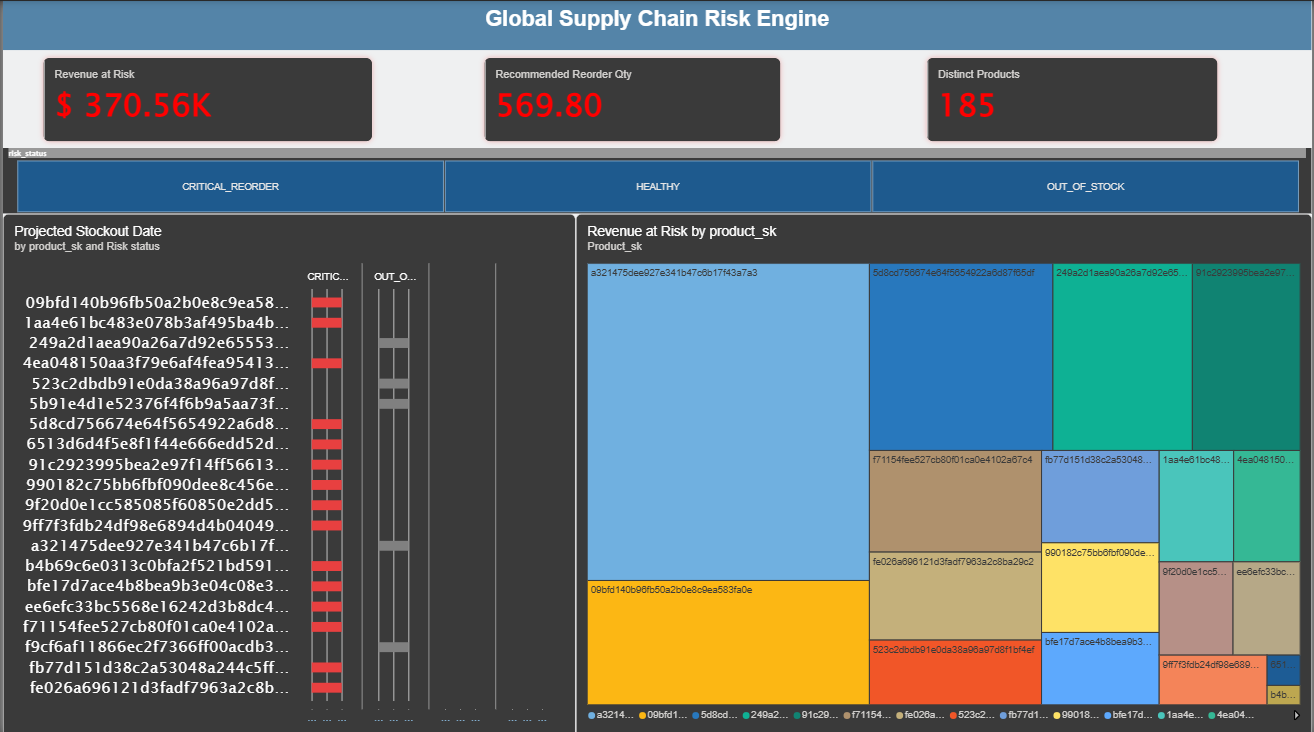

The page's visual inventory and layout, read from the dashboard file:
{"tool":"powerbi","page":{"name":"Global Supply Chain Risk Engine","canvas":[1920,1080],"ordinal":0},"visuals":[{"type":"textbox","box":[0,0,1920,72],"z":0},{"type":"cardVisual","fields":{"Data":["_Key_Measures.Revenue at Risk"]},"box":[48,72,504,144],"z":1000},{"type":"cardVisual","fields":{"Data":["_Key_Measures.Recommended Reorder Qty"]},"box":[696,72,456,144],"z":2000},{"type":"cardVisual","fields":{"Data":["replenishment_risk.Distinct Products"]},"box":[1344,72,448,144],"z":3000},{"type":"slicer","fields":{"Values":["replenishment_risk.risk_status"]},"box":[0,216,1920,96],"z":4000},{"type":"treemap","fields":{"Group":["replenishment_risk.product_sk"],"Values":["_Key_Measures.Revenue at Risk"]},"box":[840,312,1080,768],"z":5000},{"type":"hundredPercentStackedBarChart","fields":{"Rows":["replenishment_risk.risk_status"],"Y":["CountNonNull(replenishment_risk.projected_stockout_date)"],"Category":["dim_product.product_sk"]},"box":[0,312,840,768],"z":6000}]}

Visuals, with their boxes in screenshot pixels (x1, y1, x2, y2), scaled from the page's 1920x1080 canvas onto the 1314x732 screenshot:
textbox: <region>0, 0, 1313, 49</region>
cardVisual - _Key_Measures.Revenue at Risk: <region>33, 49, 378, 146</region>
cardVisual - _Key_Measures.Recommended Reorder Qty: <region>476, 49, 788, 146</region>
cardVisual - replenishment_risk.Distinct Products: <region>920, 49, 1226, 146</region>
slicer - replenishment_risk.risk_status: <region>0, 146, 1313, 211</region>
treemap - replenishment_risk.product_sk x _Key_Measures.Revenue at Risk: <region>575, 211, 1313, 731</region>
hundredPercentStackedBarChart - replenishment_risk.risk_status x CountNonNull(replenishment_risk.projected_stockout_date): <region>0, 211, 575, 731</region>
